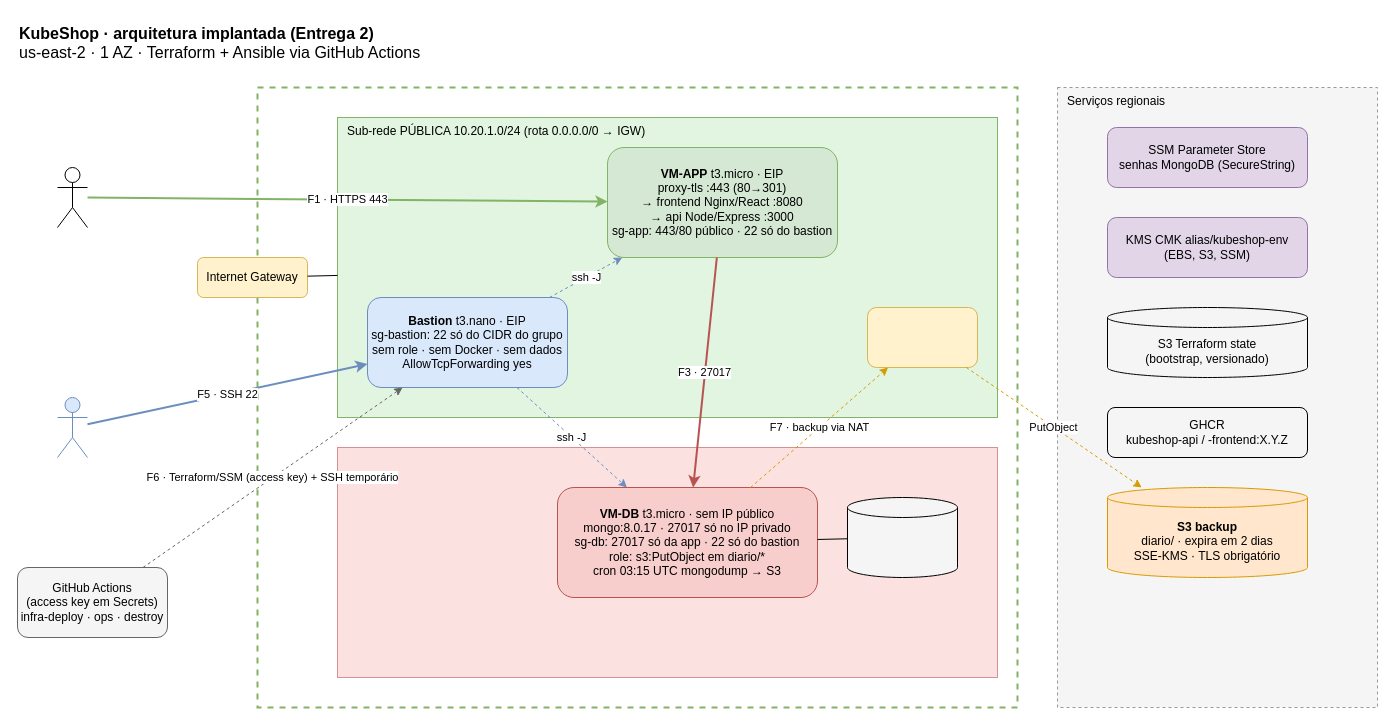
Some shapes in this 1395 by 725 pixel diagram are drawn without their labels. Each missing label, with the box of its shape:
EBS dados 10 GB /data/mongo (CMK): (846, 496, 958, 578)
Grupo (CIDR autorizado): (56, 396, 88, 458)
NAT Gateway (EIP): (866, 306, 978, 368)
Sub-rede PRIVADA 10.20.11.0/24 (rota 0.0.0.0/0 → NAT): (336, 446, 998, 678)
Visitantes (navegador): (56, 166, 88, 228)
VPC 10.20.0.0/16 · us-east-2a: (256, 86, 1018, 708)
